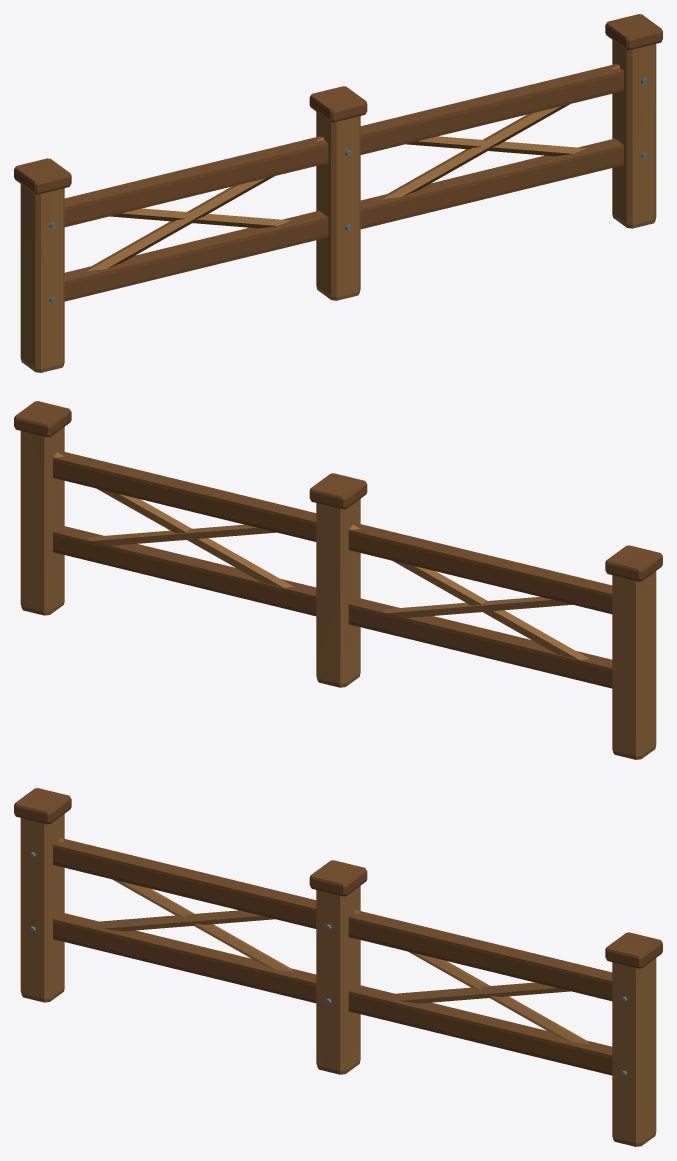
File: Prop_Pastoral_FarmFence4m_001.glb
The picture shows the model from 3 angles, top to bottom: view 1: azimuth 30°, elevation 25°; view 2: azimuth 150°, elevation 25°; view 3: azimuth 330°, elevation 25°; orthographic projection.
Parts seen in each view (by area): view 1: PA_FarmFence4m_Body, PA_FarmFence4m_TerminalPost; view 2: PA_FarmFence4m_Body, PA_FarmFence4m_TerminalPost; view 3: PA_FarmFence4m_Body, PA_FarmFence4m_TerminalPost.
Boxes of the visible parts, x1,y1,x2,y2 form: PA_FarmFence4m_Body: (14,64,623,372); PA_FarmFence4m_TerminalPost: (605,14,662,228); PA_FarmFence4m_Body: (53,451,662,759); PA_FarmFence4m_TerminalPost: (14,401,71,615); PA_FarmFence4m_Body: (14,788,612,1075); PA_FarmFence4m_TerminalPost: (605,932,662,1146).
Bounding box in the file's own units: 4.25 × 1.25 × 0.27.
